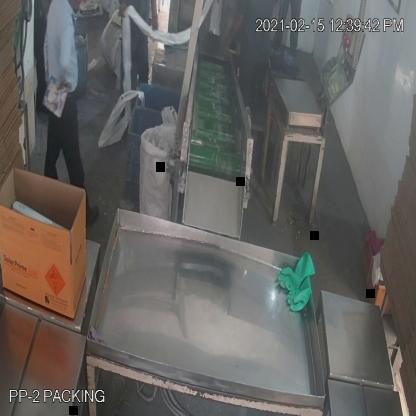glove: (276, 243, 318, 322)
no_glove: (218, 12, 248, 65), (55, 36, 76, 100)
